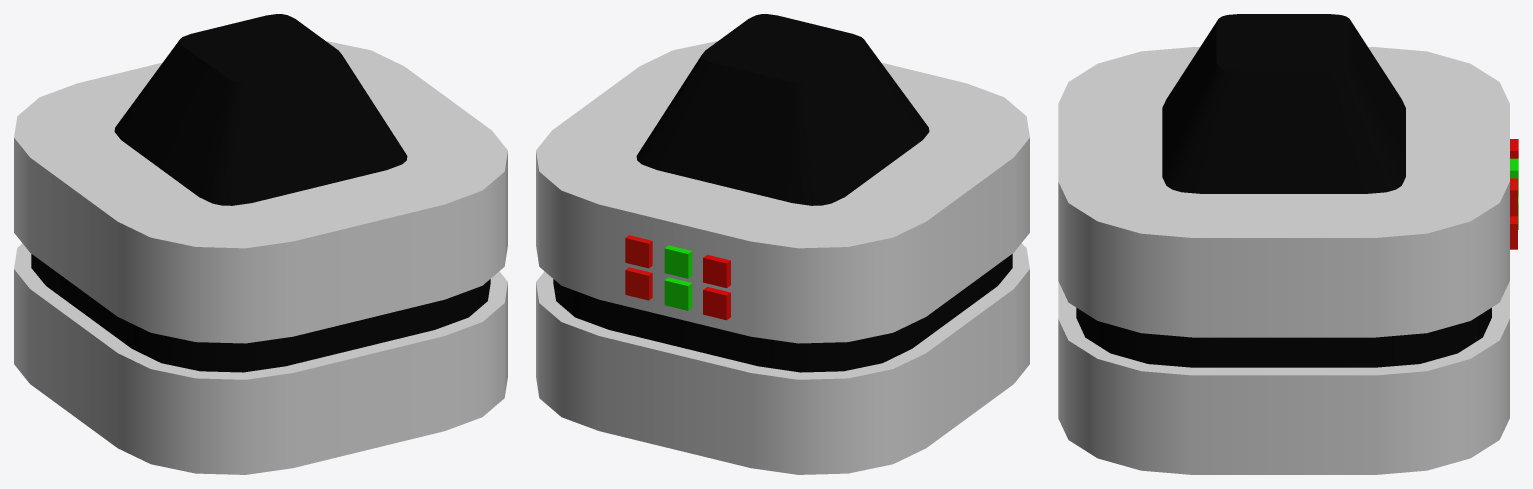
Rendered from thermal.fbx.
3 views of the same model, side by side, from view 1: azimuth 30°, elevation 25°; view 2: azimuth 150°, elevation 25°; view 3: azimuth 270°, elevation 25° (orthographic). The views are drawn at different scales.
Parts seen in each view (by area): view 1: Cube.034; view 2: Cube.034; view 3: Cube.034.
Part boxes in pixels (x1,y1,x2,y2): Cube.034: (14,14,507,474); Cube.034: (536,14,1029,474); Cube.034: (1058,14,1518,474).
Bounding box in the file's own units: 139 × 114 × 142.
